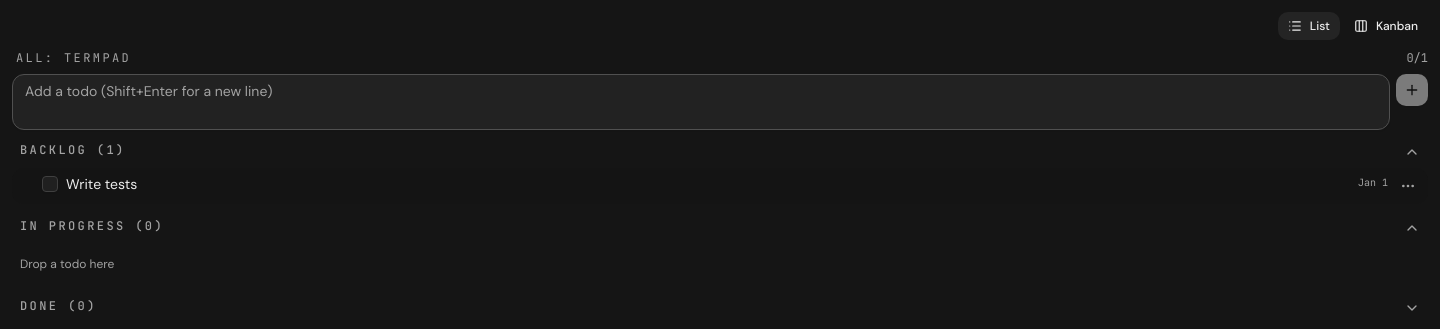
Test case: TodosPanel › keeps the original text when an edit is cancelled
Step 1. Click the button "Write tests" → coordinates (102, 184), box [66, 174, 1350, 194]
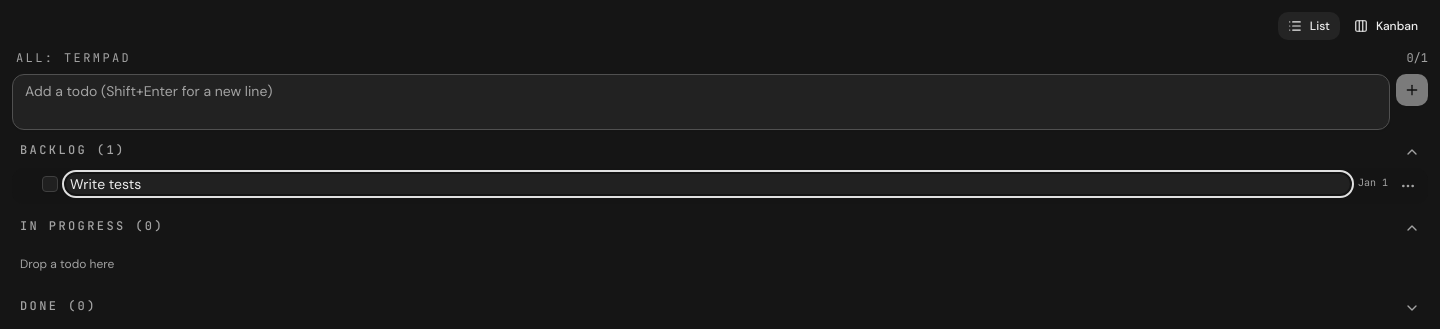
Step 2. Replace the text in the text box named "Edit \"Write tests\"" with "Discard me" → coordinates (708, 184), box [66, 174, 1350, 194]
Then press Escape
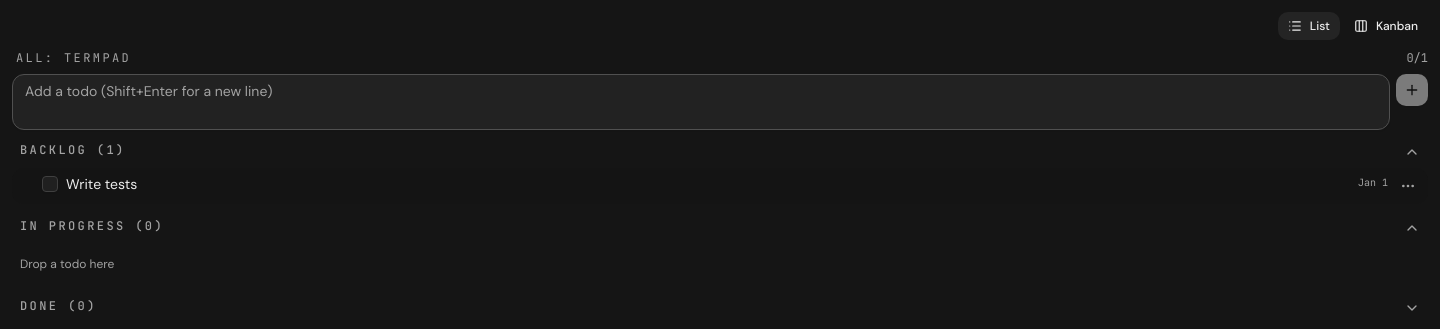
Now the button "Write tests" is shown, box [66, 174, 1350, 194]
